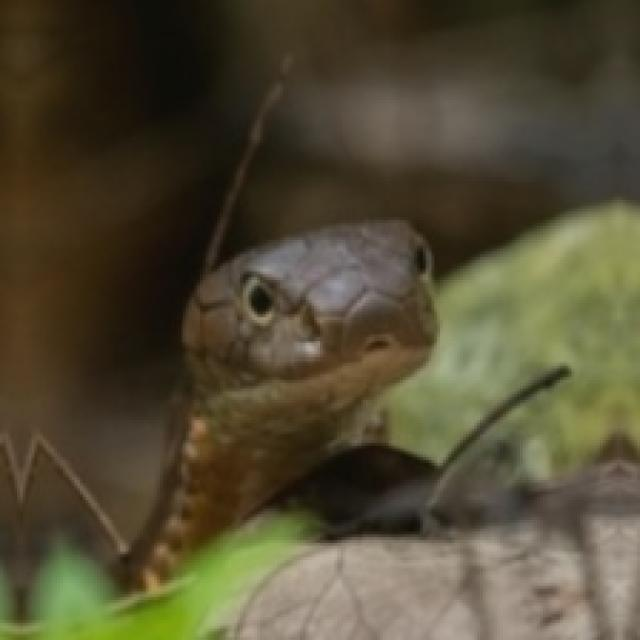king cobra: (129, 71, 434, 586), (129, 80, 434, 586)
